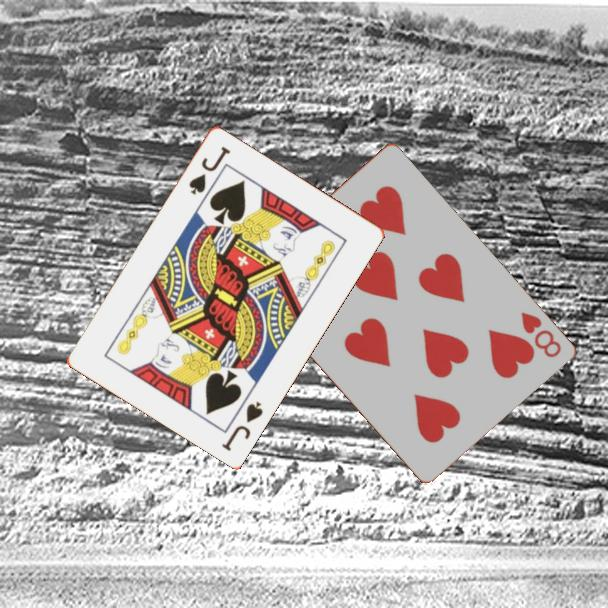h08: (517, 308, 564, 361)
s11: (218, 397, 266, 454), (185, 142, 233, 197)
